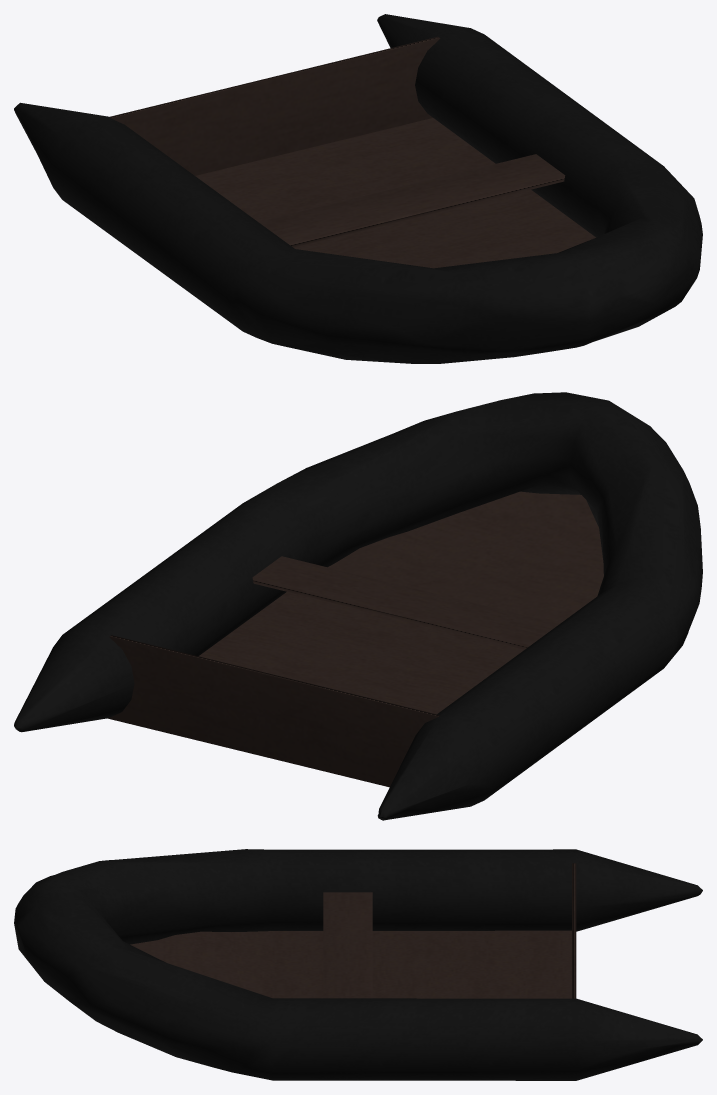
File: PI9RUSVPC3BVLUFSGO10EC39Y.obj
The picture shows the model from 3 angles, top to bottom: view 1: azimuth 30°, elevation 25°; view 2: azimuth 150°, elevation 25°; view 3: azimuth 270°, elevation 25°; orthographic projection. The views are drawn at different scales.
Size of the model in its own units: 1.58 by 0.4562 by 2.5.
1 material, 1 textured.
